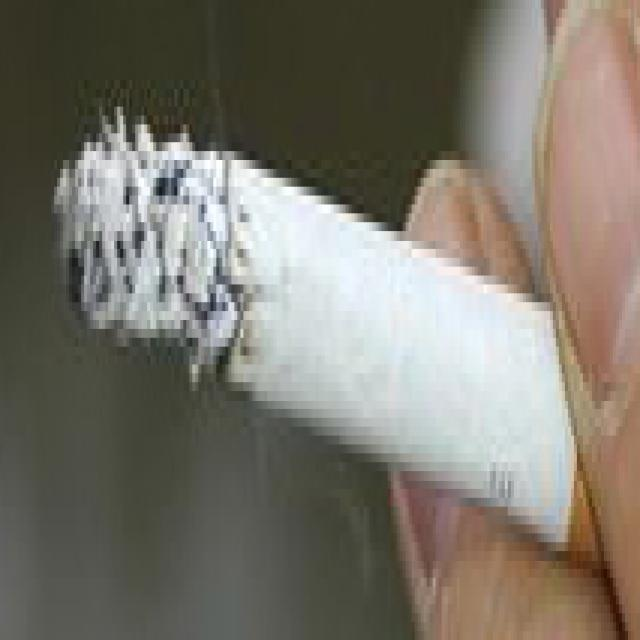smoking: (56, 111, 604, 574)
